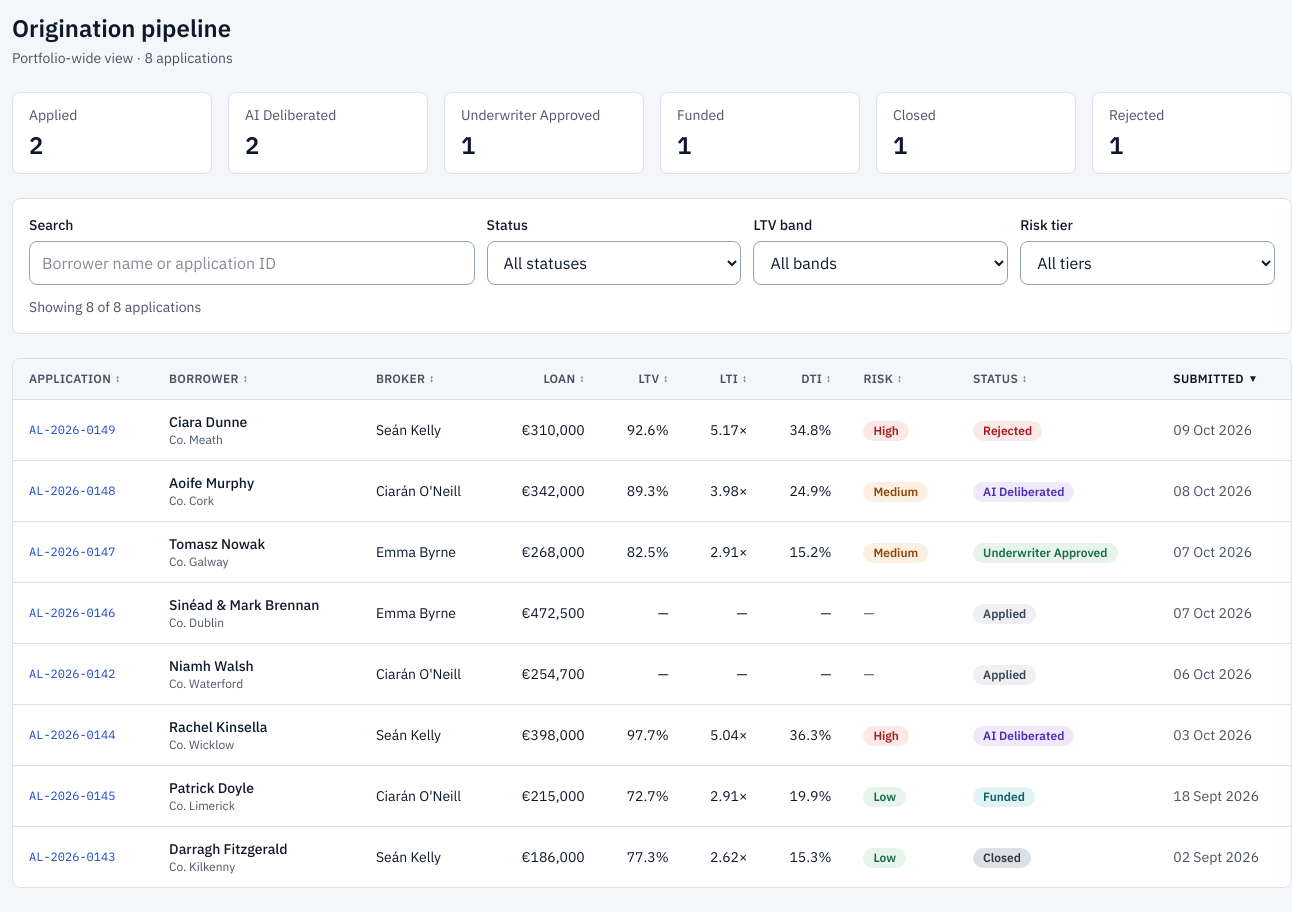
Test: PipelinePage › shows an empty state when nothing matches, and clears the filters
Later steps or results of the test are not shown.
Expected: the text "Tomasz Nowak" is shown, [169,535,265,553]
Type "no such borrower" into the search field labelled "Search" at (252, 263), box [29,241,475,285]
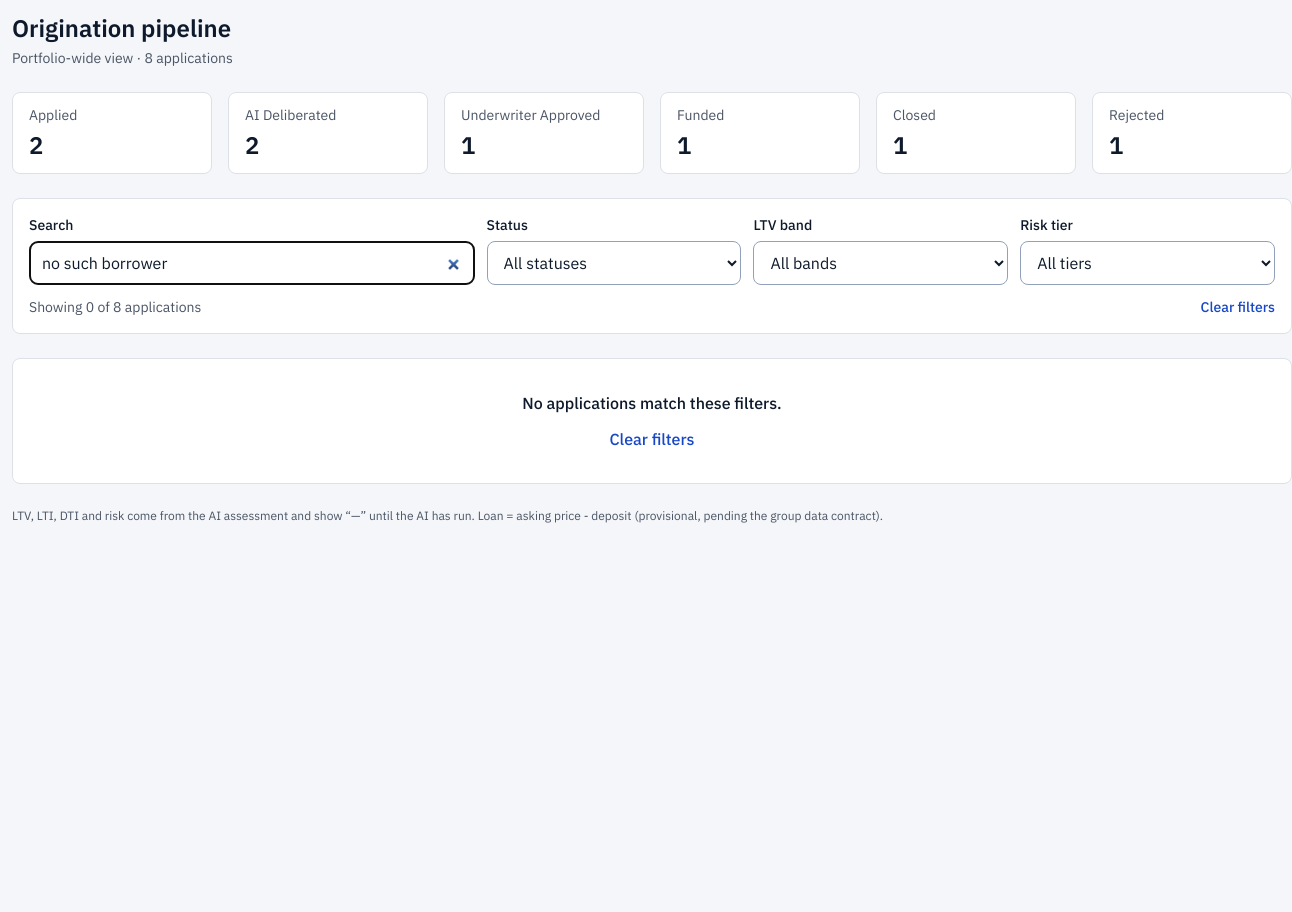
Result: the text "No applications match these filters." is shown at [522,393,782,413]
